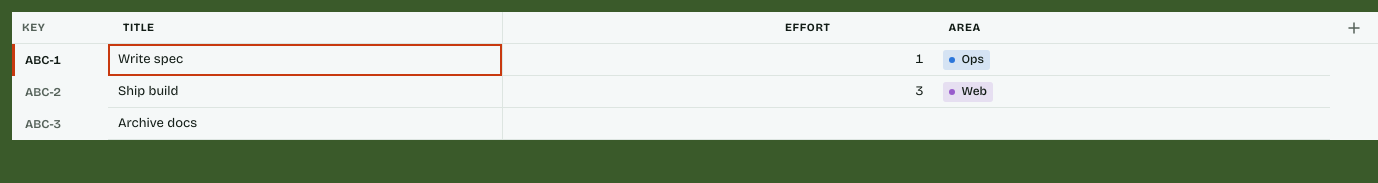
TableView › non_numeric_number_is_rejected_before_api
This screenshot has width=1378, height=183.
expect the row "ABC-1 Write spec 1 Ops" is shown: met, box [12, 44, 1377, 76]
Click the cell "1": (718,60) [502, 44, 934, 76]
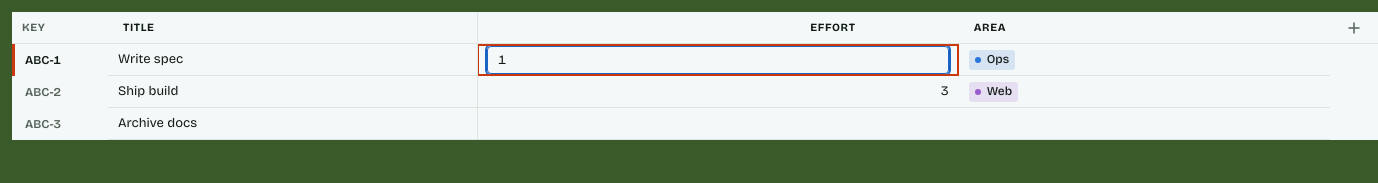
Replace the text in the field named "Effort" with "abc": (718,60) [487, 46, 949, 74]
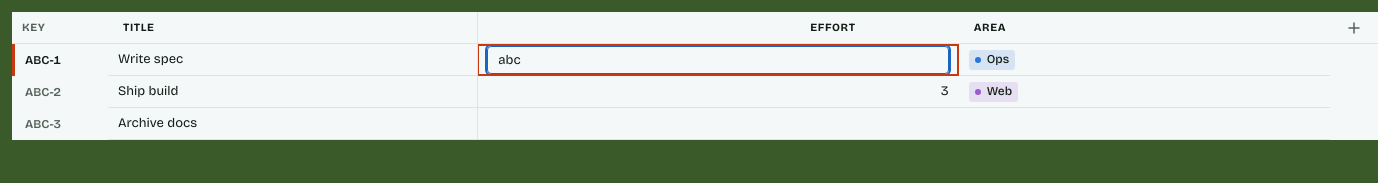
Submit the form, box [487, 44, 949, 75]
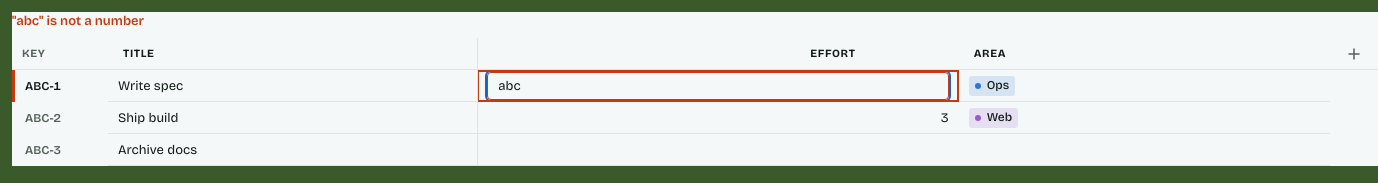
expect the message "\"abc\" is not a number" reads "\"abc\" is not a number": met, box [12, 13, 144, 29]
